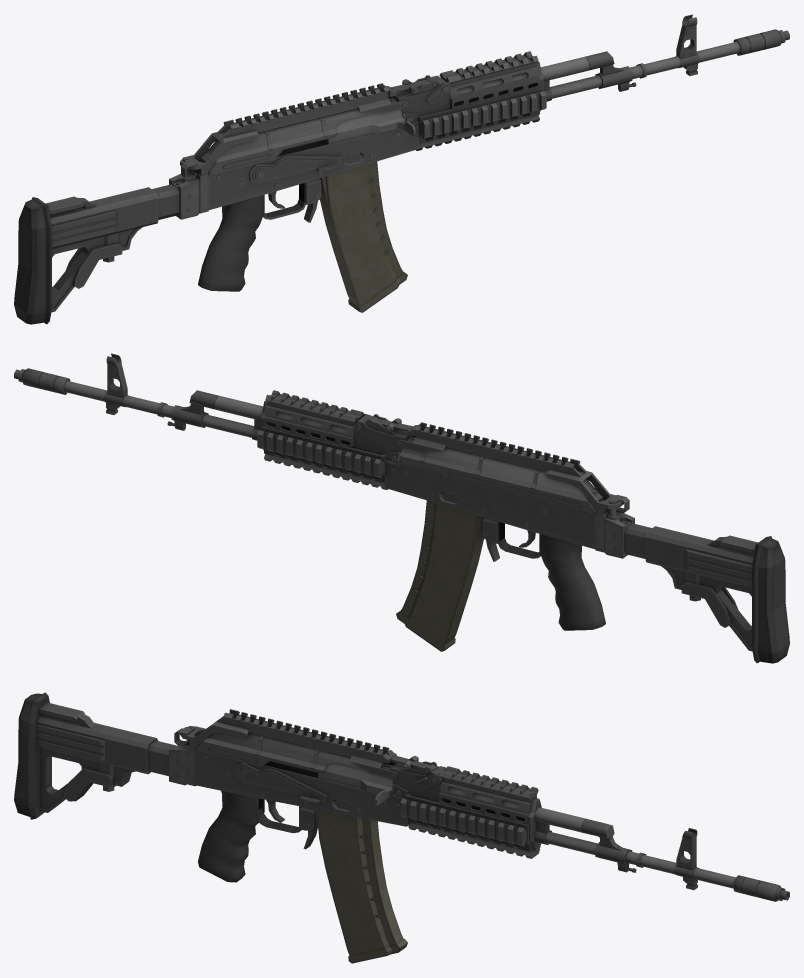
Rendered from FB Beryl Ready.fbx.
3 views of the same model, one above another, from view 1: azimuth 30°, elevation 25°; view 2: azimuth 150°, elevation 25°; view 3: azimuth 330°, elevation 25° (orthographic).
Visible parts, largest first — view 1: Cube.001; view 2: Cube.001; view 3: Cube.001.
Part boxes in pixels (x1=…): Cube.001: x1=14, y1=14, x2=789, y2=324; Cube.001: x1=14, y1=353, x2=789, y2=663; Cube.001: x1=14, y1=692, x2=789, y2=963.
Size of the model in its own units: 1009 by 272 by 71.55.
